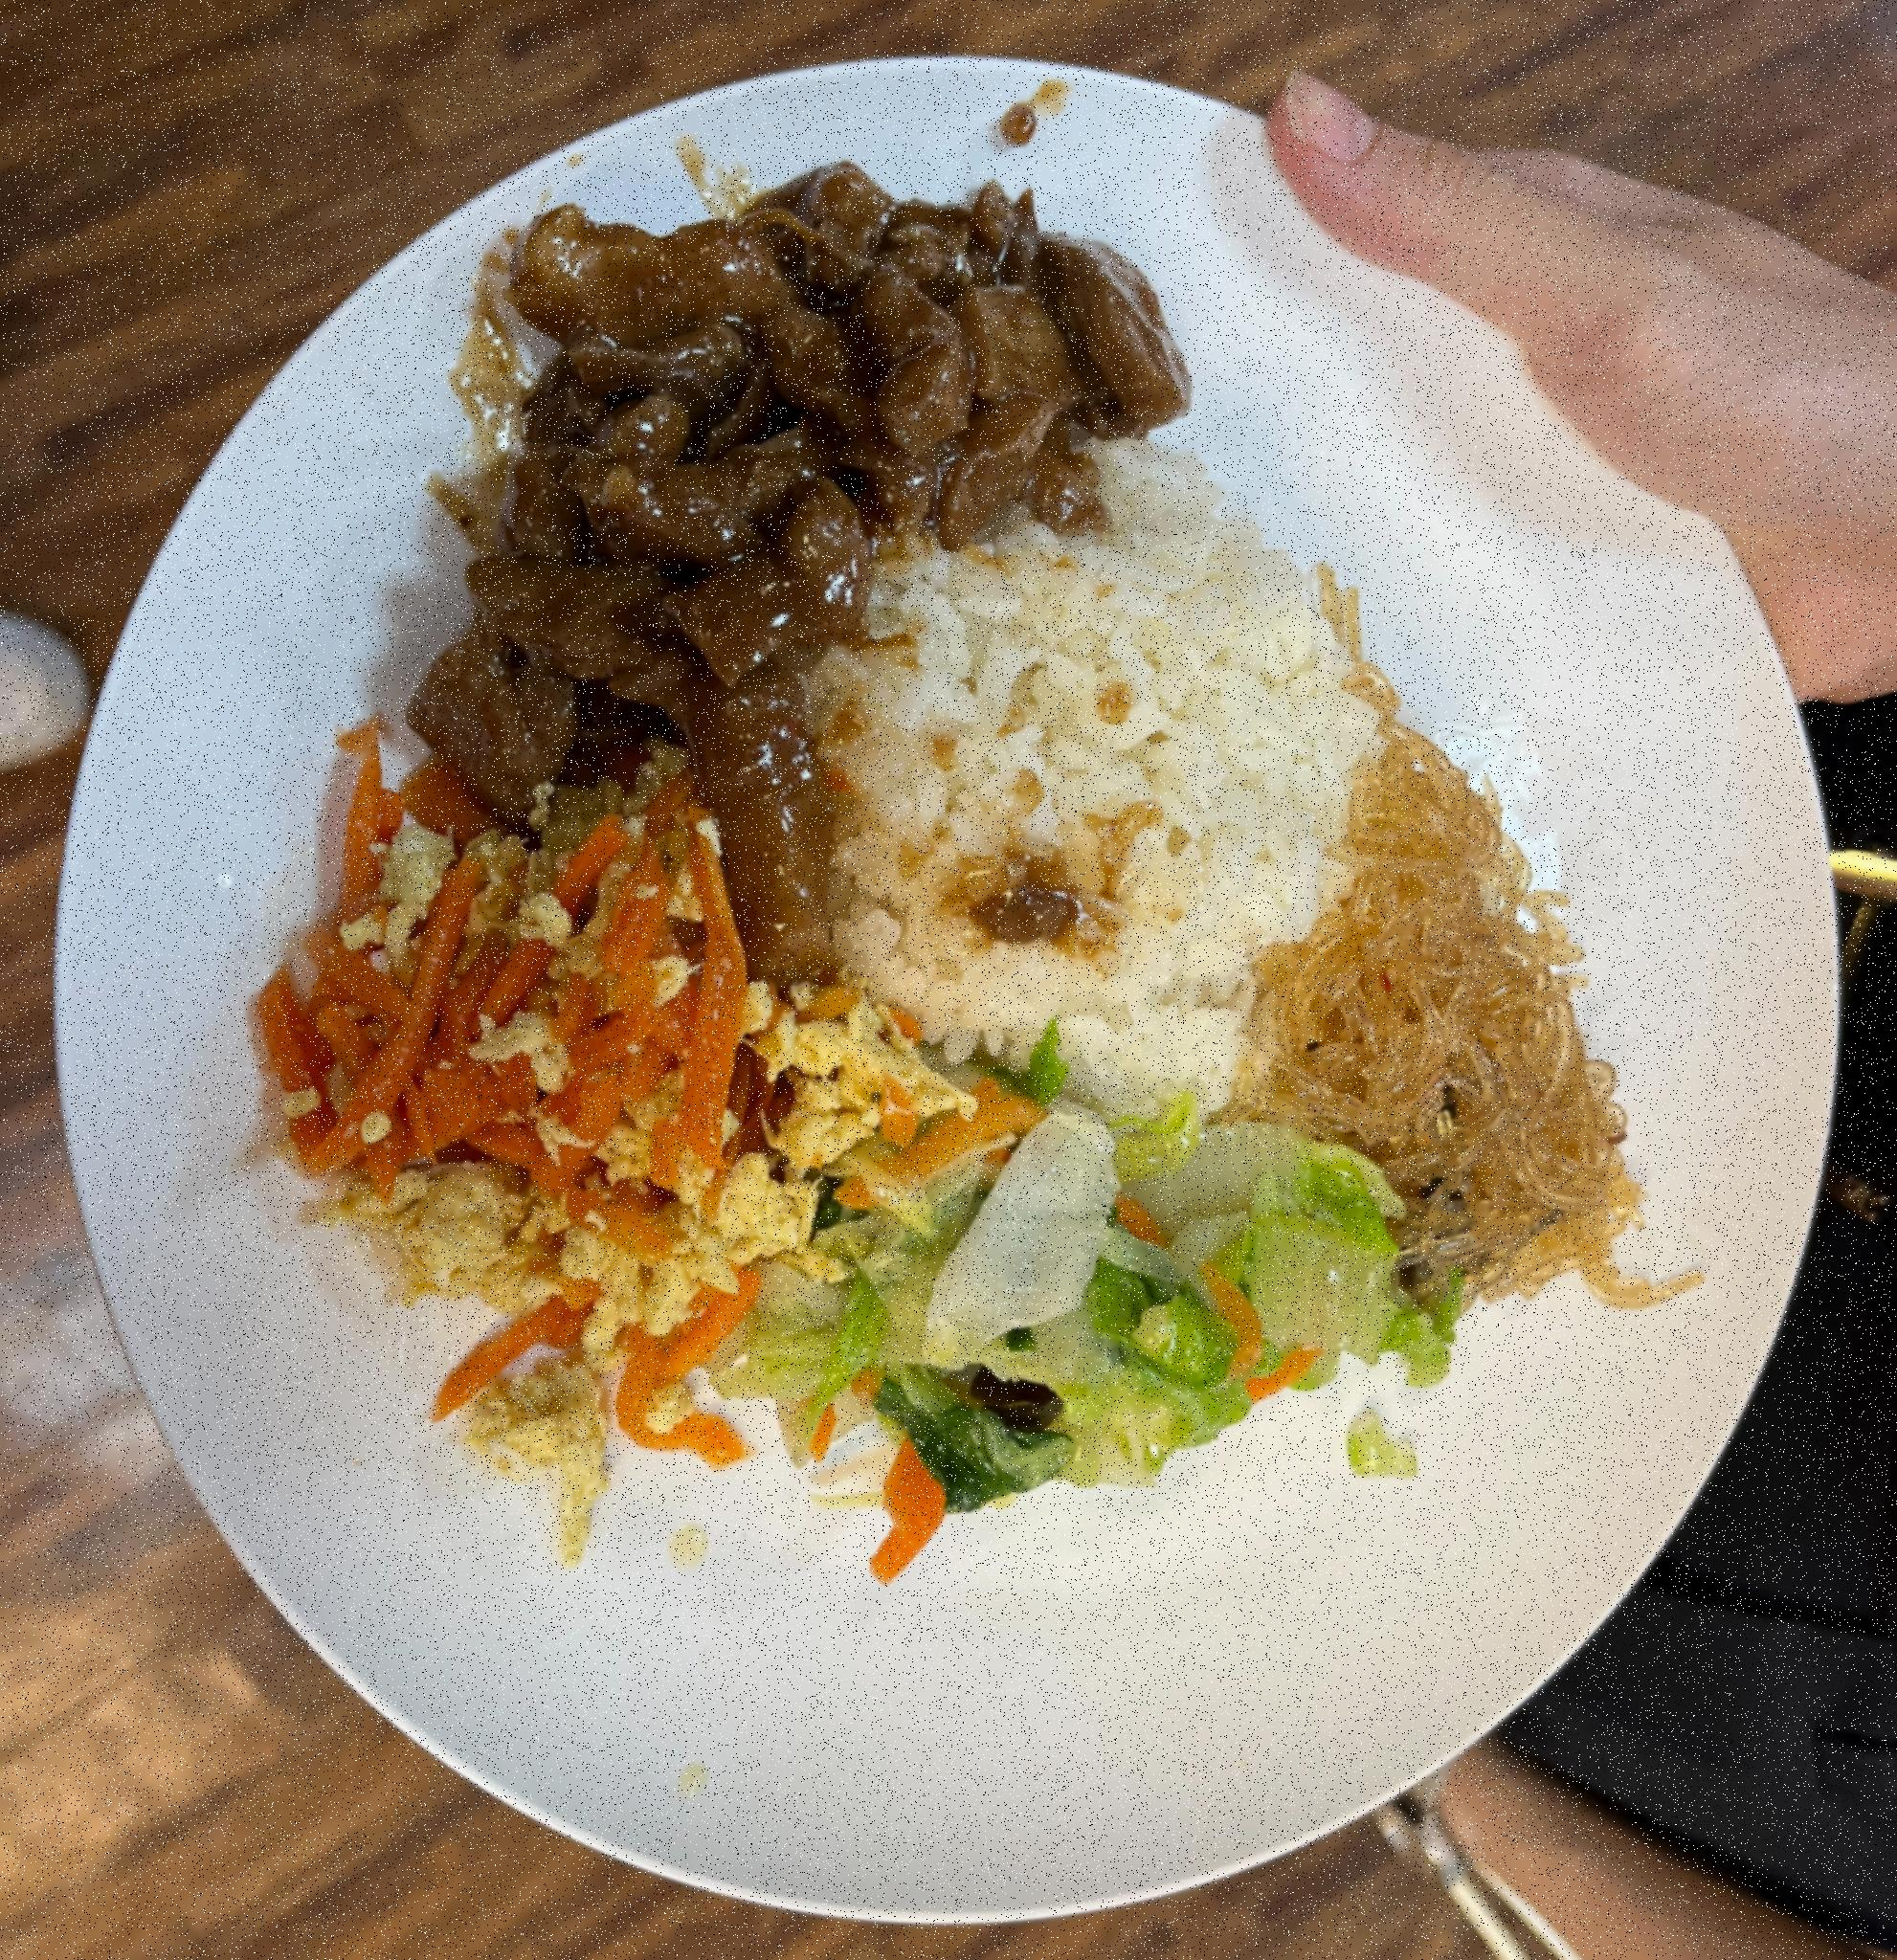plate: (38, 58, 1844, 1932)
shacha pork: (397, 177, 1197, 983)
side dish: (283, 735, 896, 1463), (1220, 710, 1670, 1286), (787, 1094, 1412, 1501)
white rice: (726, 506, 1403, 1090)
